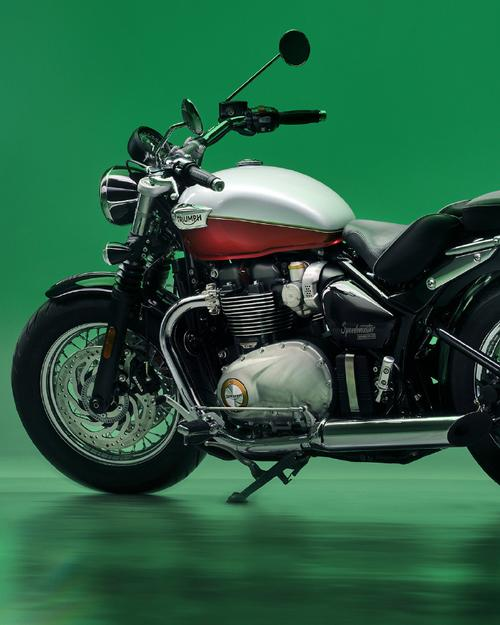摩托车: (6, 18, 500, 519)
